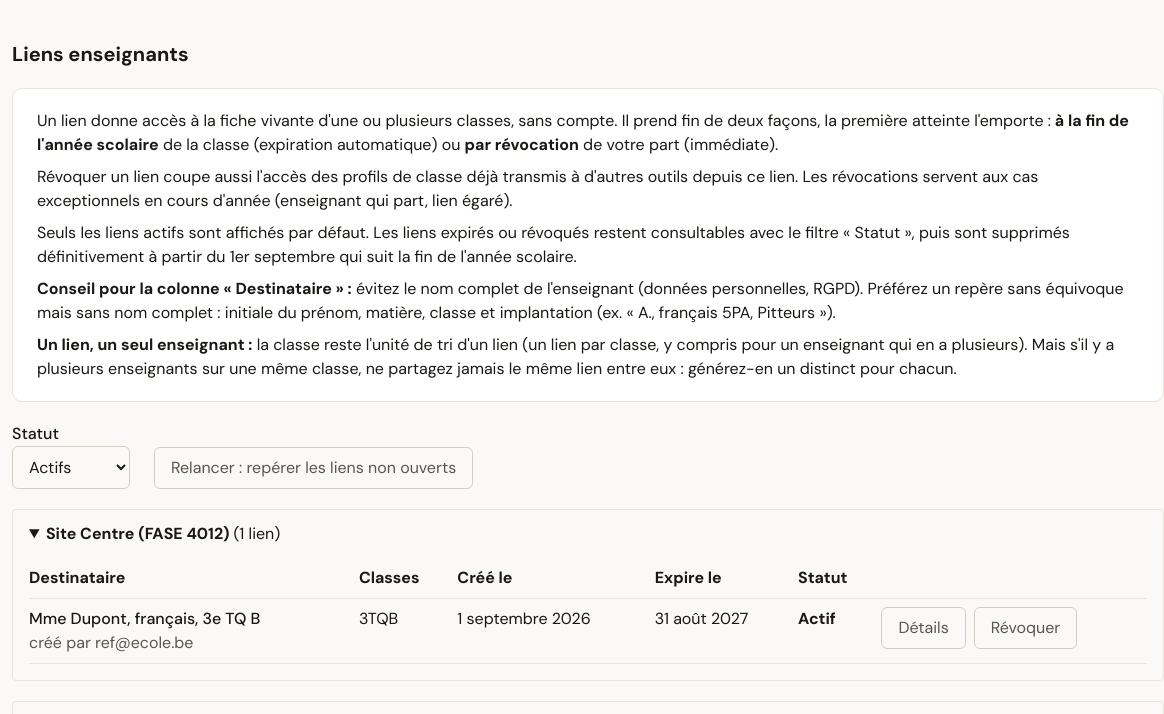
it: page Liens enseignants › les ouvertures ne sont pas affichées par défaut, seulement via « Détails » ligne par ligne
Expected: the text "Ouvertures" is not shown
Expected: the text "Dernière ouverture" is not shown
Click the button named "Détails du lien de Mme Dupont" at [924, 628], box [882,607,966,649]
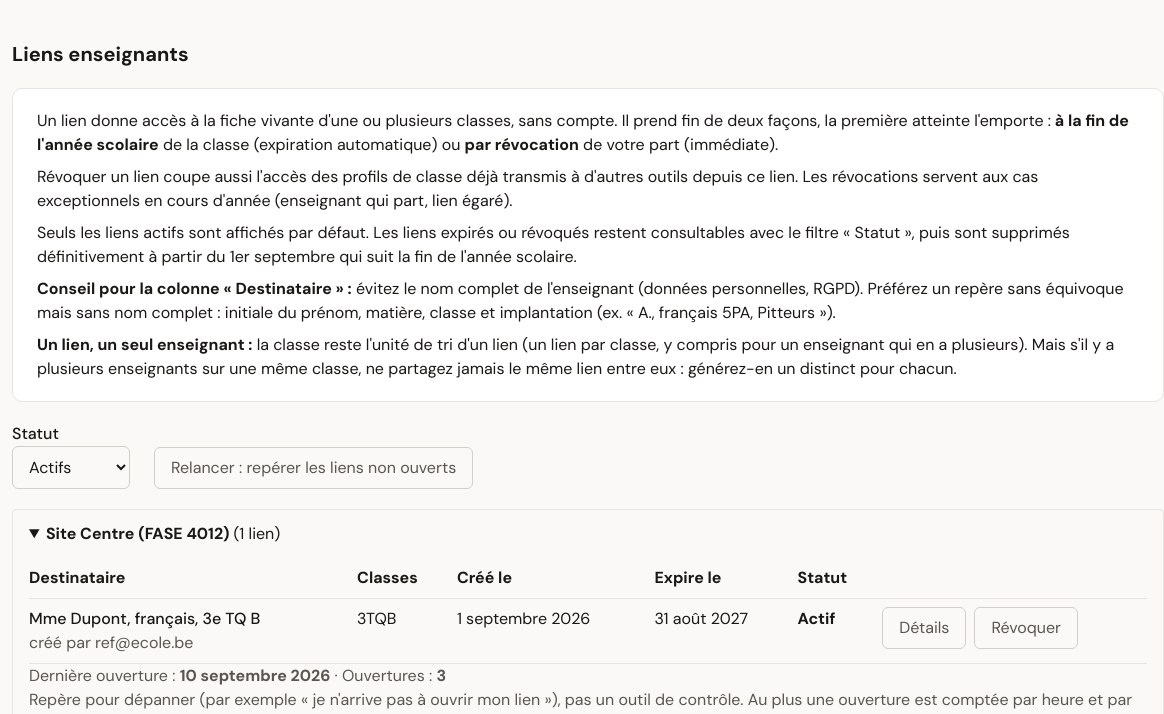
Expected: the button named "Détails du lien de Mme Dupont" is expanded
Expected: the text "Dernière ouverture : 10 septembre 2026 · Ouvertures : 3" is shown, [29,665,446,686]
Expected: the text "3" is shown, [436,665,446,686]
Click the button named "Détails du lien de Mme Dupont" at [924, 628], box [882,607,966,649]
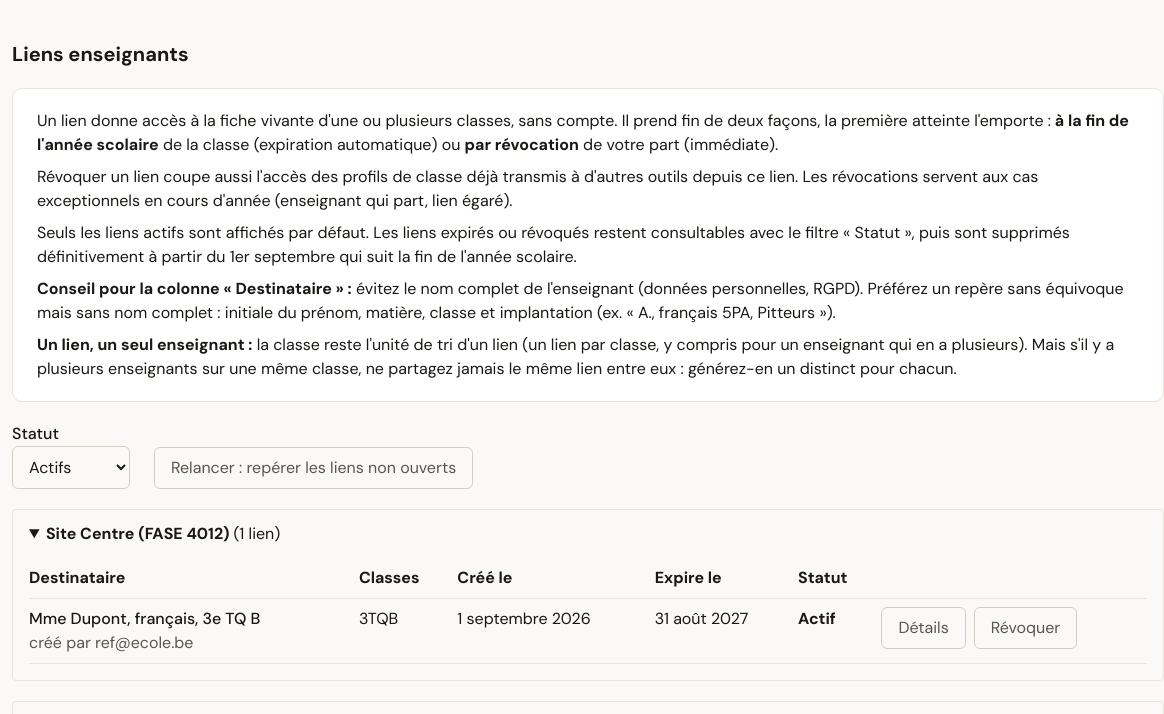
Expected: the text "Dernière ouverture" is gone
